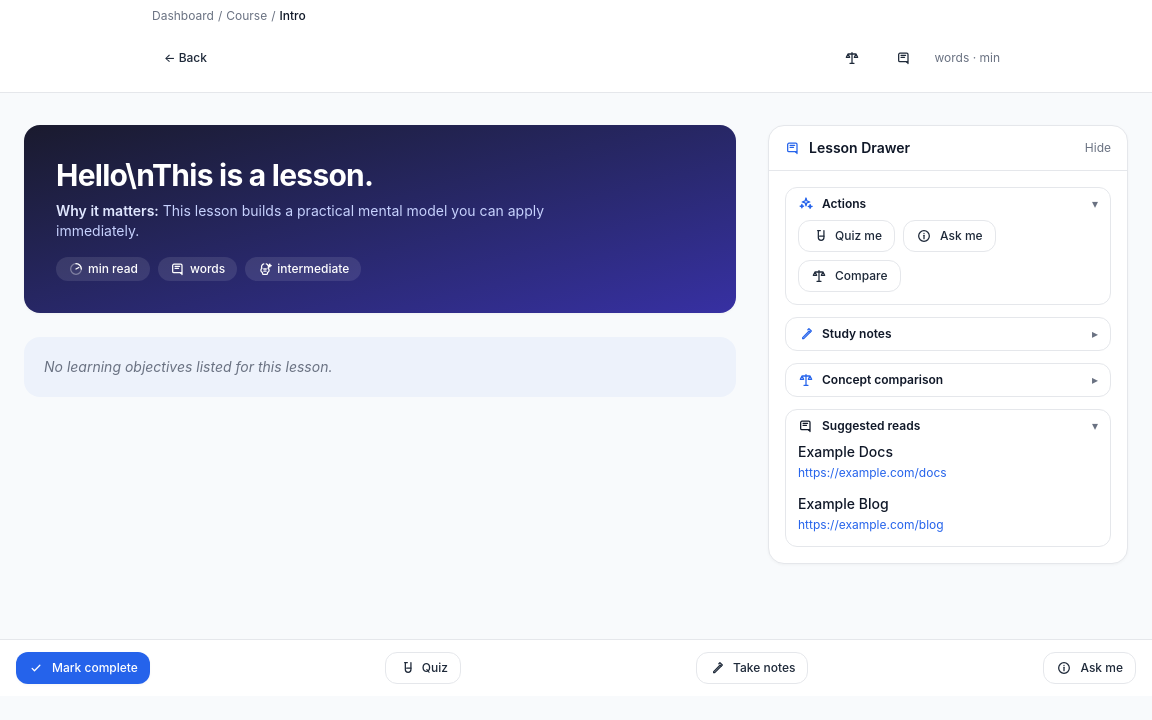
Scenario: Lesson Reader › opens Sources & Attribution drawer and shows new fields
This screenshot has width=1152, height=720.
// Iter146: Sources button removed from Actions. Open attribution drawer via "Suggested reads" section.
Click the text "Suggested reads". click: [859, 426]
box: [798, 418, 920, 434]
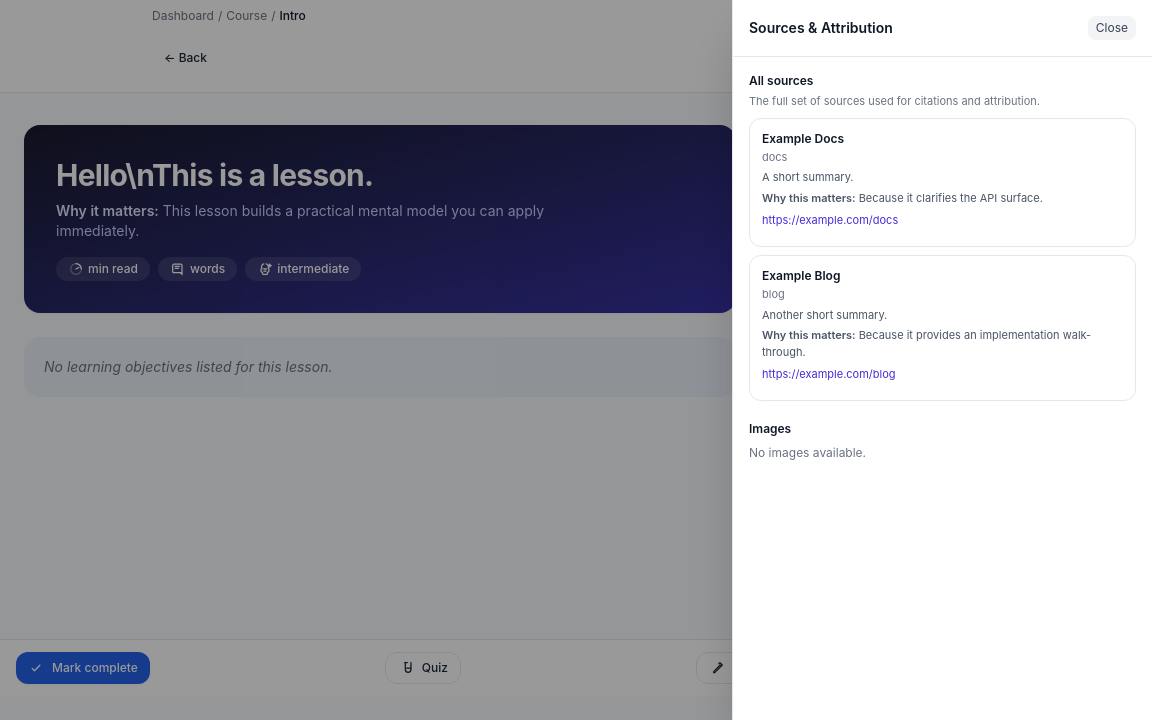
Now the heading "Sources & Attribution" is shown, box [749, 18, 893, 38]
Now the text "A short summary." is shown, box [762, 170, 854, 184]
Now the text "Why this matters: Because it clarifies the API surface." is shown, box [762, 190, 1043, 204]
